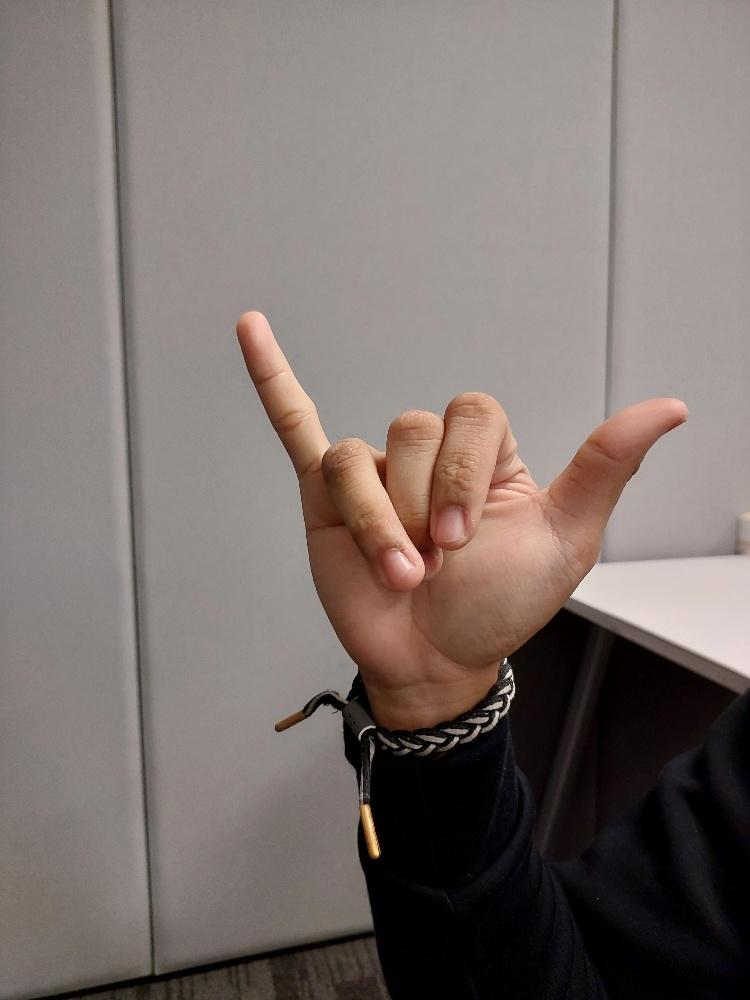y: (234, 307, 688, 682)
